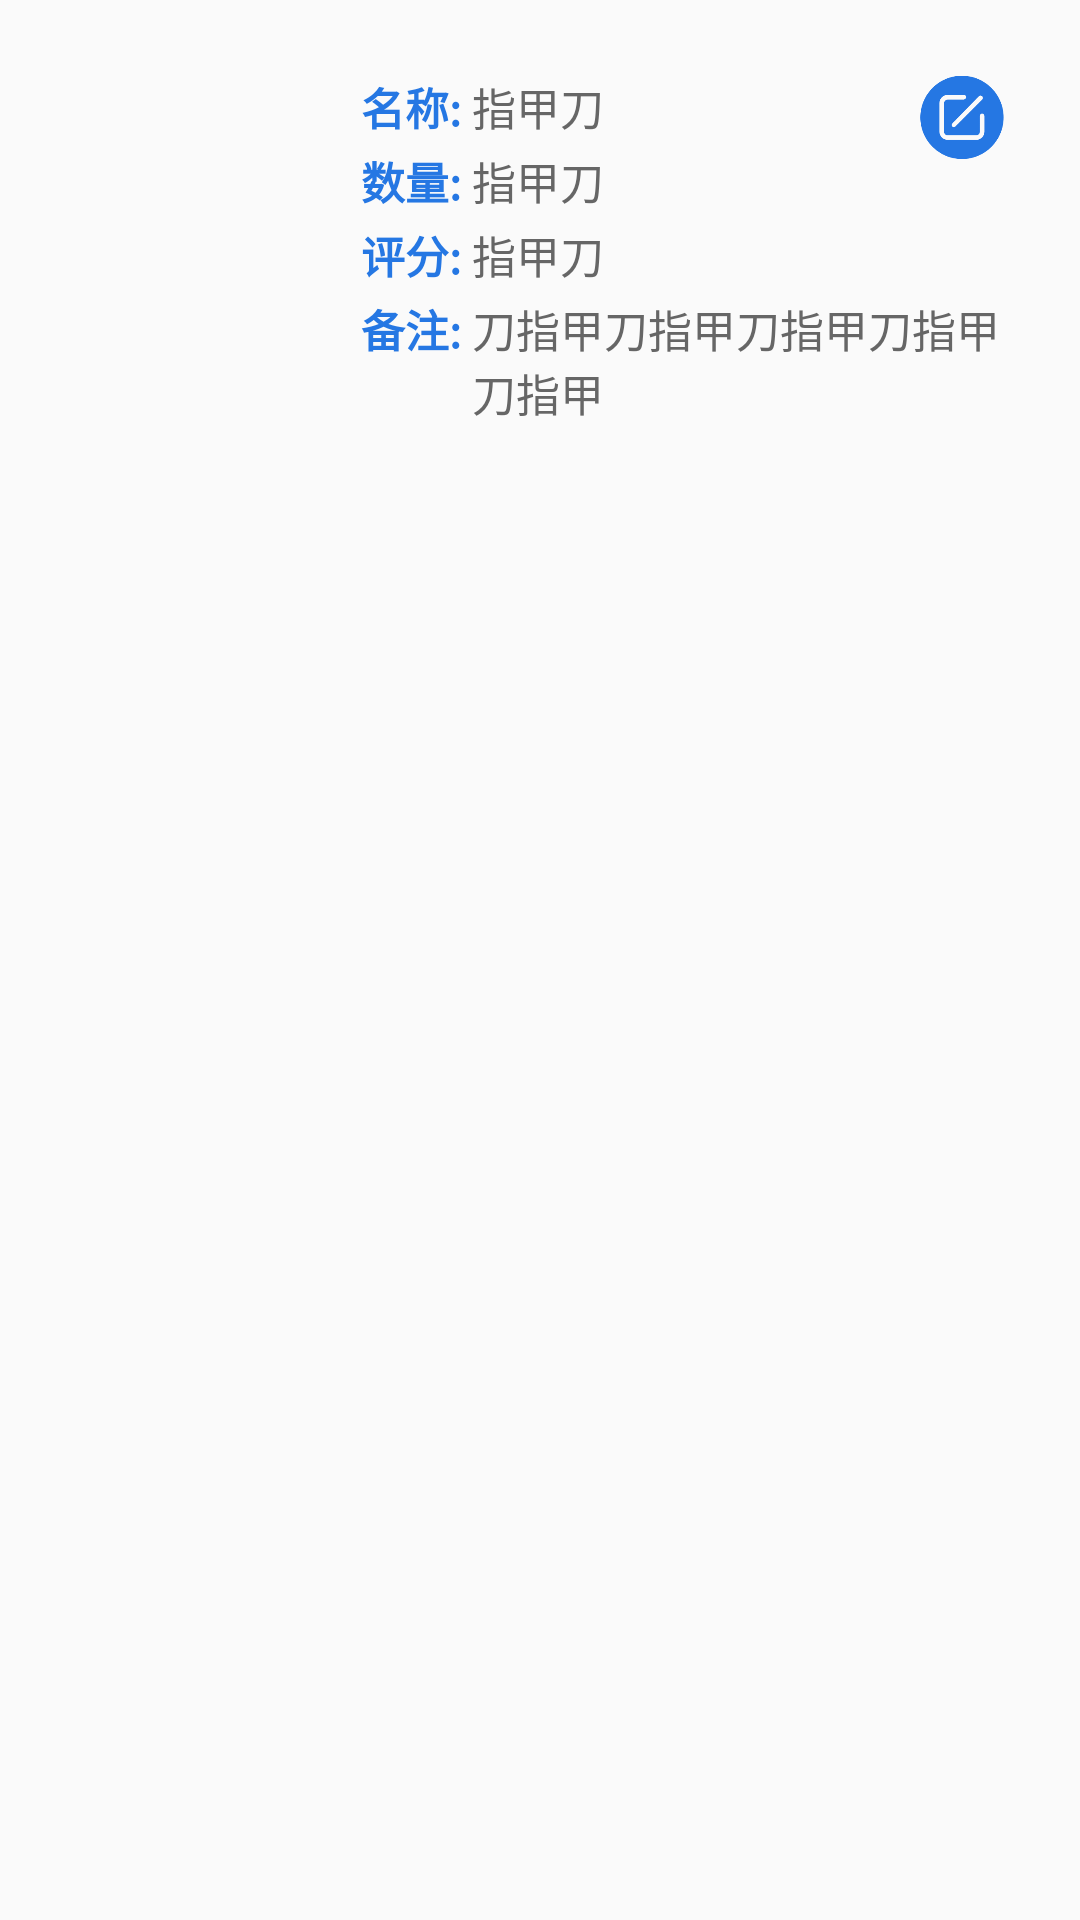

Where to tap for icons on this 1080 x 1920 app screen, as (x=x, y=y):
xiugai: (x=962, y=117)
